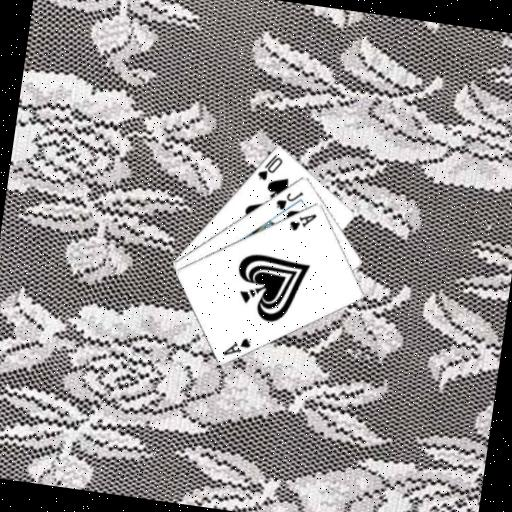10S: (254, 149, 286, 185)
AS: (220, 331, 254, 360), (286, 207, 320, 235)
JS: (272, 185, 306, 214)
